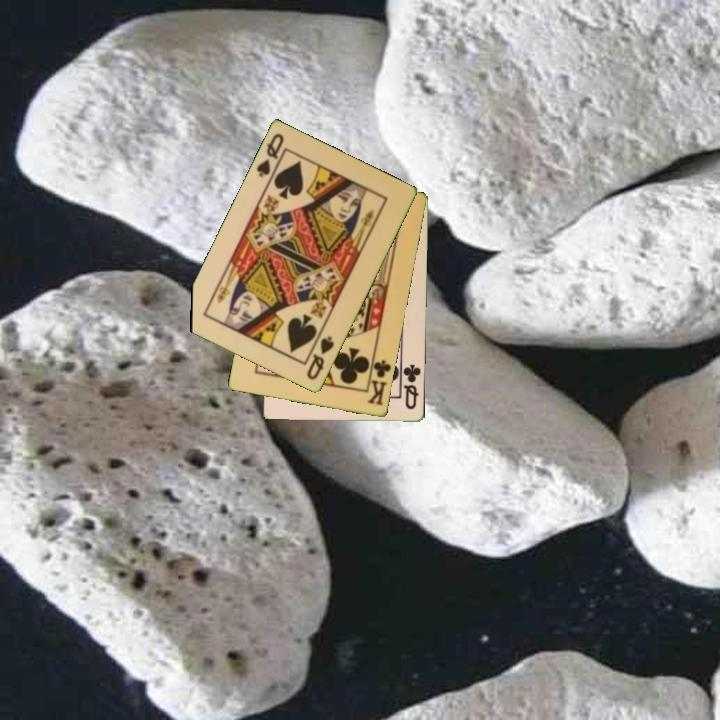Kc: (364, 353, 394, 408)
Qc: (400, 361, 424, 413)
Qs: (303, 332, 337, 383), (253, 130, 287, 181)
